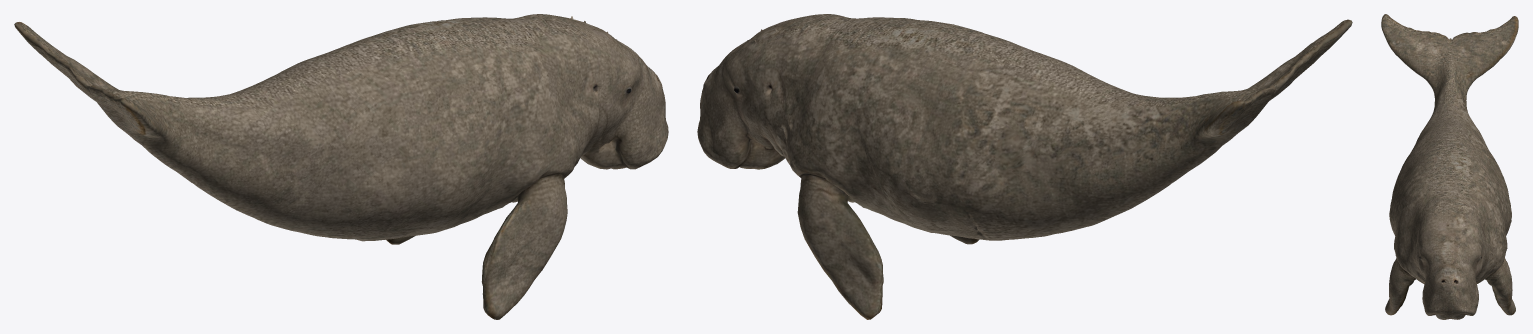
The model's file is dugong.glb.
3 views of the same model, side by side, from view 1: azimuth 30°, elevation 25°; view 2: azimuth 150°, elevation 25°; view 3: azimuth 270°, elevation 25° (orthographic). The views are drawn at different scales.
Parts seen in each view (by area): view 1: tripo_node_66721c03-ef0f-47f7-bb4c-0550de799f7f; view 2: tripo_node_66721c03-ef0f-47f7-bb4c-0550de799f7f; view 3: tripo_node_66721c03-ef0f-47f7-bb4c-0550de799f7f.
Part boxes in pixels (x1,y1,x2,y2): tripo_node_66721c03-ef0f-47f7-bb4c-0550de799f7f: [14, 14, 668, 319]; tripo_node_66721c03-ef0f-47f7-bb4c-0550de799f7f: [697, 14, 1352, 319]; tripo_node_66721c03-ef0f-47f7-bb4c-0550de799f7f: [1381, 14, 1518, 319].
Bounding box in the file's own units: 1 × 0.5034 × 0.3313.
Materials: 1 (1 with a texture image).
